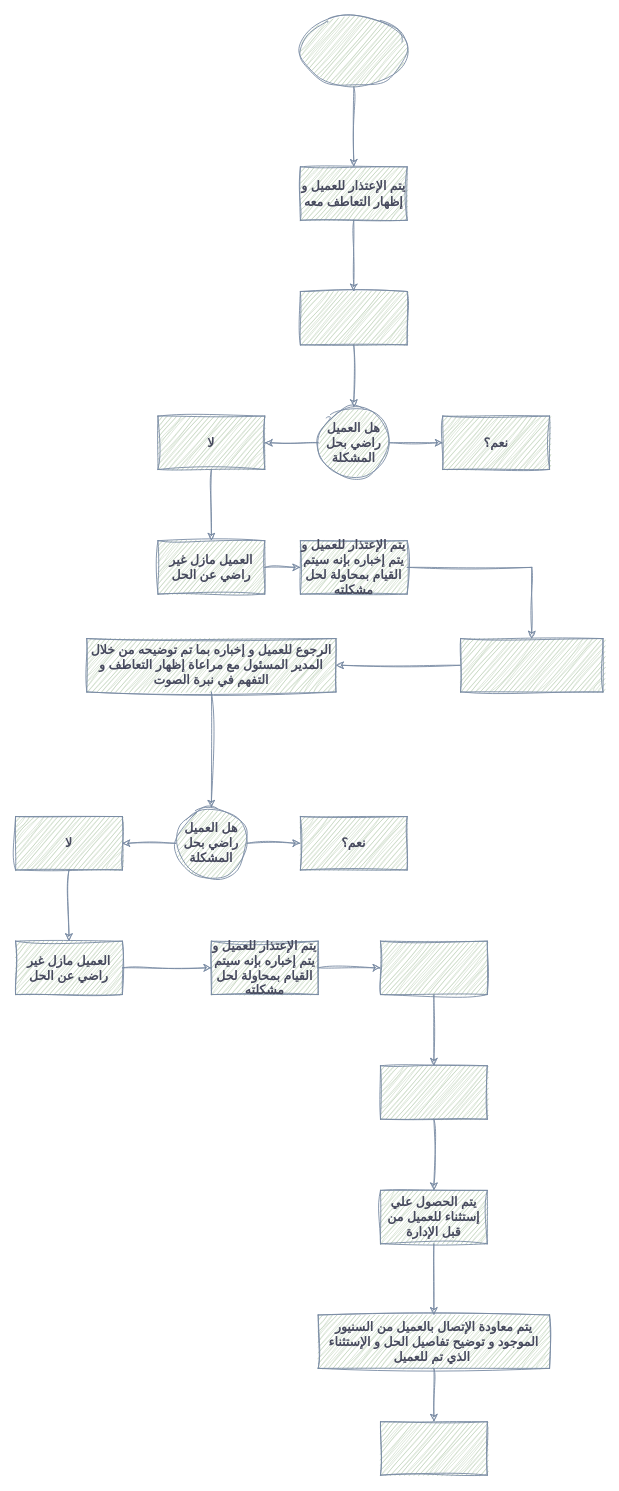
Image size: 619x1491. Some labels were removed from this diagram. Each missing label, with the centre of its shape:
"العميل يواجه مشكلة" belongs at point 353,51.
"و يتم الإعتذار للعميل عن أي تجربة سيئة واجهته" belongs at point 433,1448.
"يتم إتباع خطوات حل المشكلة" belongs at point 353,318.
"يتم الرجوع للمسئول و توضيح المشكلة و أخذ الإجراء الذي يجب إتباعه" belongs at point 531,665.
"يتم تحديد موعد و مهلة للرجوع للعميل بحل" belongs at point 433,967.
"يتم تصعيد الشكوي للإدارة المختصة بكل تفاصيلها" belongs at point 433,1092.
